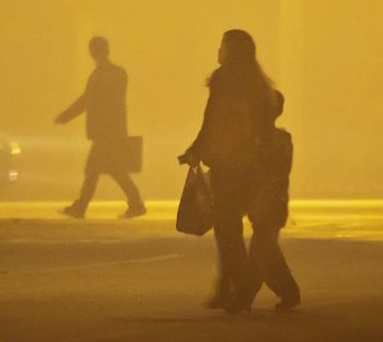person: (177, 27, 268, 311), (54, 34, 152, 221), (246, 85, 302, 309)
